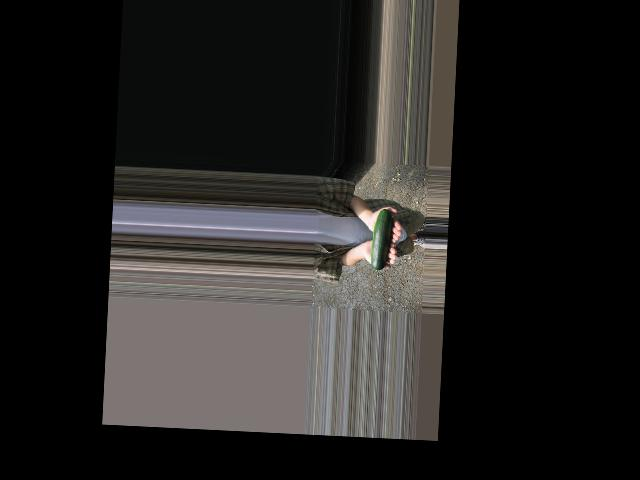cucumber: (370, 209, 393, 278)
